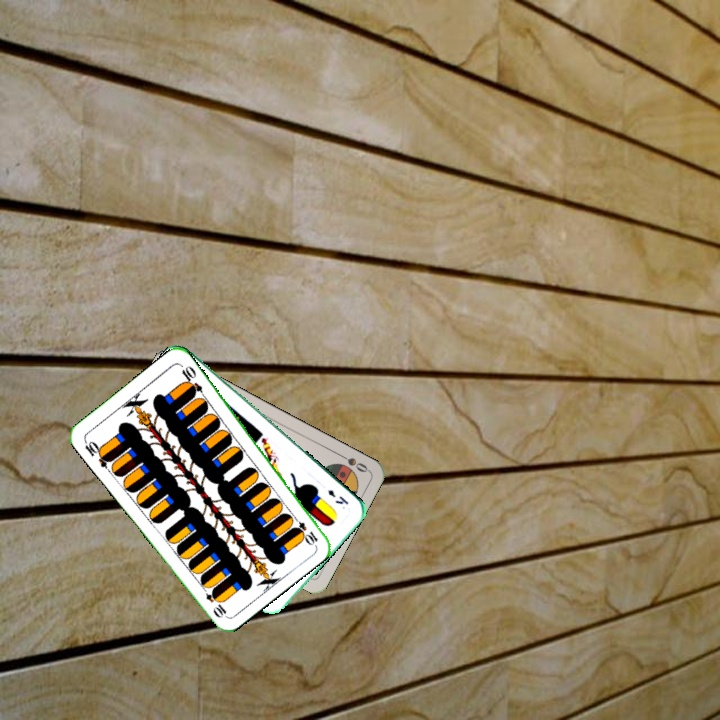E10: (80, 436, 114, 471), (289, 511, 321, 546)
EK: (323, 485, 351, 507)
SO: (333, 449, 371, 475)
